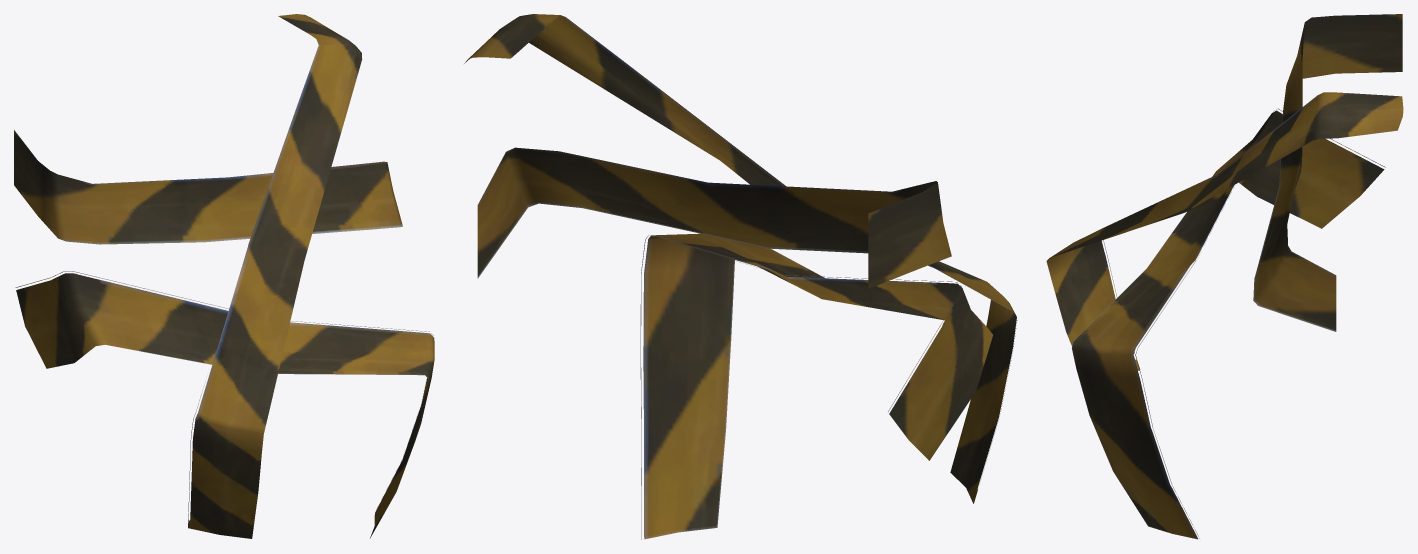
File: SM_Urinal_01_Tape_01.glb
3 renders of one model, left to right at view 1: azimuth 30°, elevation 25°; view 2: azimuth 150°, elevation 25°; view 3: azimuth 270°, elevation 25°, orthographic. The views are drawn at different scales.
Visible parts, largest first — view 1: SM_Urinal_01_Tape_01; view 2: SM_Urinal_01_Tape_01; view 3: SM_Urinal_01_Tape_01.
Part boxes in pixels (x1,y1,x2,y2): SM_Urinal_01_Tape_01: [14, 14, 434, 538]; SM_Urinal_01_Tape_01: [464, 14, 1017, 539]; SM_Urinal_01_Tape_01: [1046, 14, 1403, 539].
Size of the model in its own units: 0.3593 by 0.4473 by 0.3216.
1 material, 1 textured.
